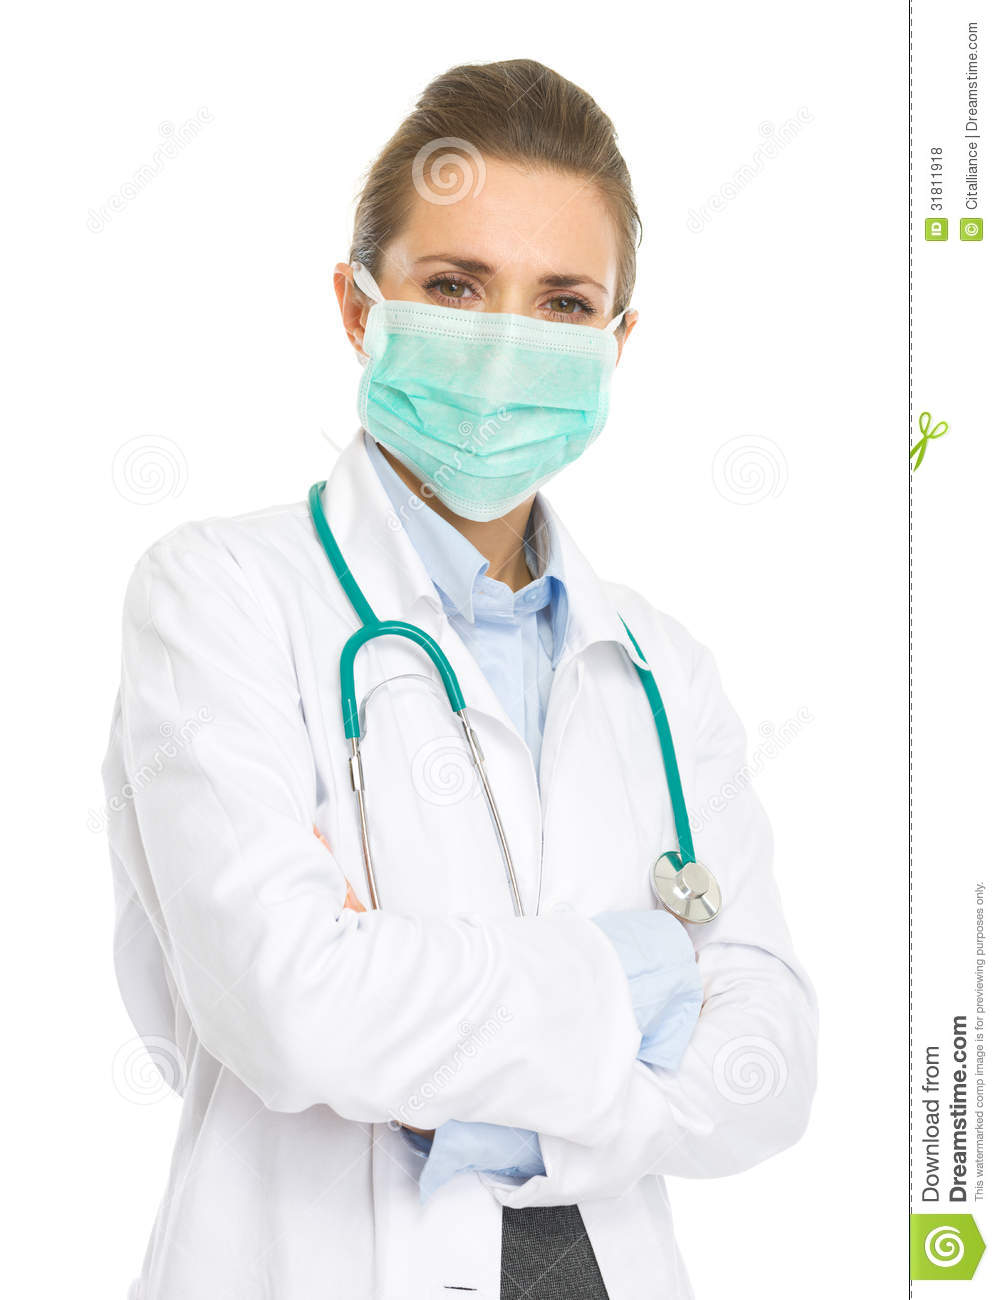mask: (358, 298, 611, 524)
